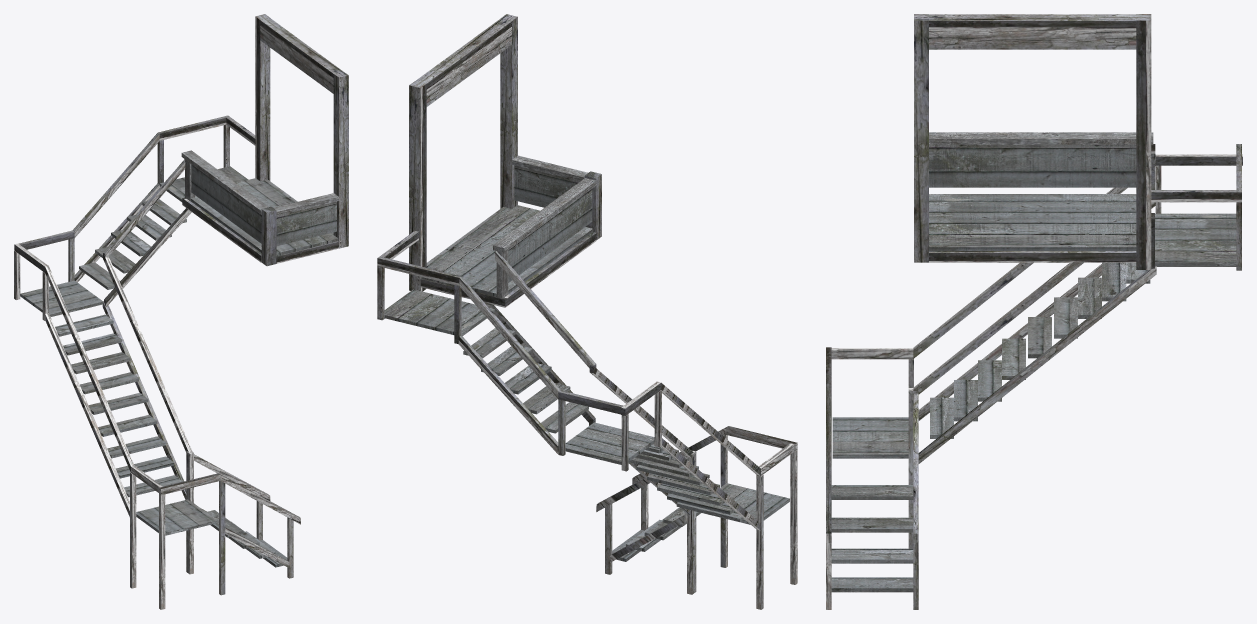
Rendered from shaftStairwell001.dae.
The picture shows the model from 3 angles, left to right: view 1: azimuth 30°, elevation 25°; view 2: azimuth 150°, elevation 25°; view 3: azimuth 270°, elevation 25°; orthographic projection. The views are drawn at different scales.
Visible parts, largest first — view 1: shaftStairwell001; view 2: shaftStairwell001; view 3: shaftStairwell001.
Part boxes in pixels (<box>): shaftStairwell001: <box>14,14,348,609</box>; shaftStairwell001: <box>377,14,797,609</box>; shaftStairwell001: <box>826,14,1242,609</box>.
Size of the model in its own units: 11.1 by 12.94 by 22.23.
Materials: 3 (3 with a texture image).
